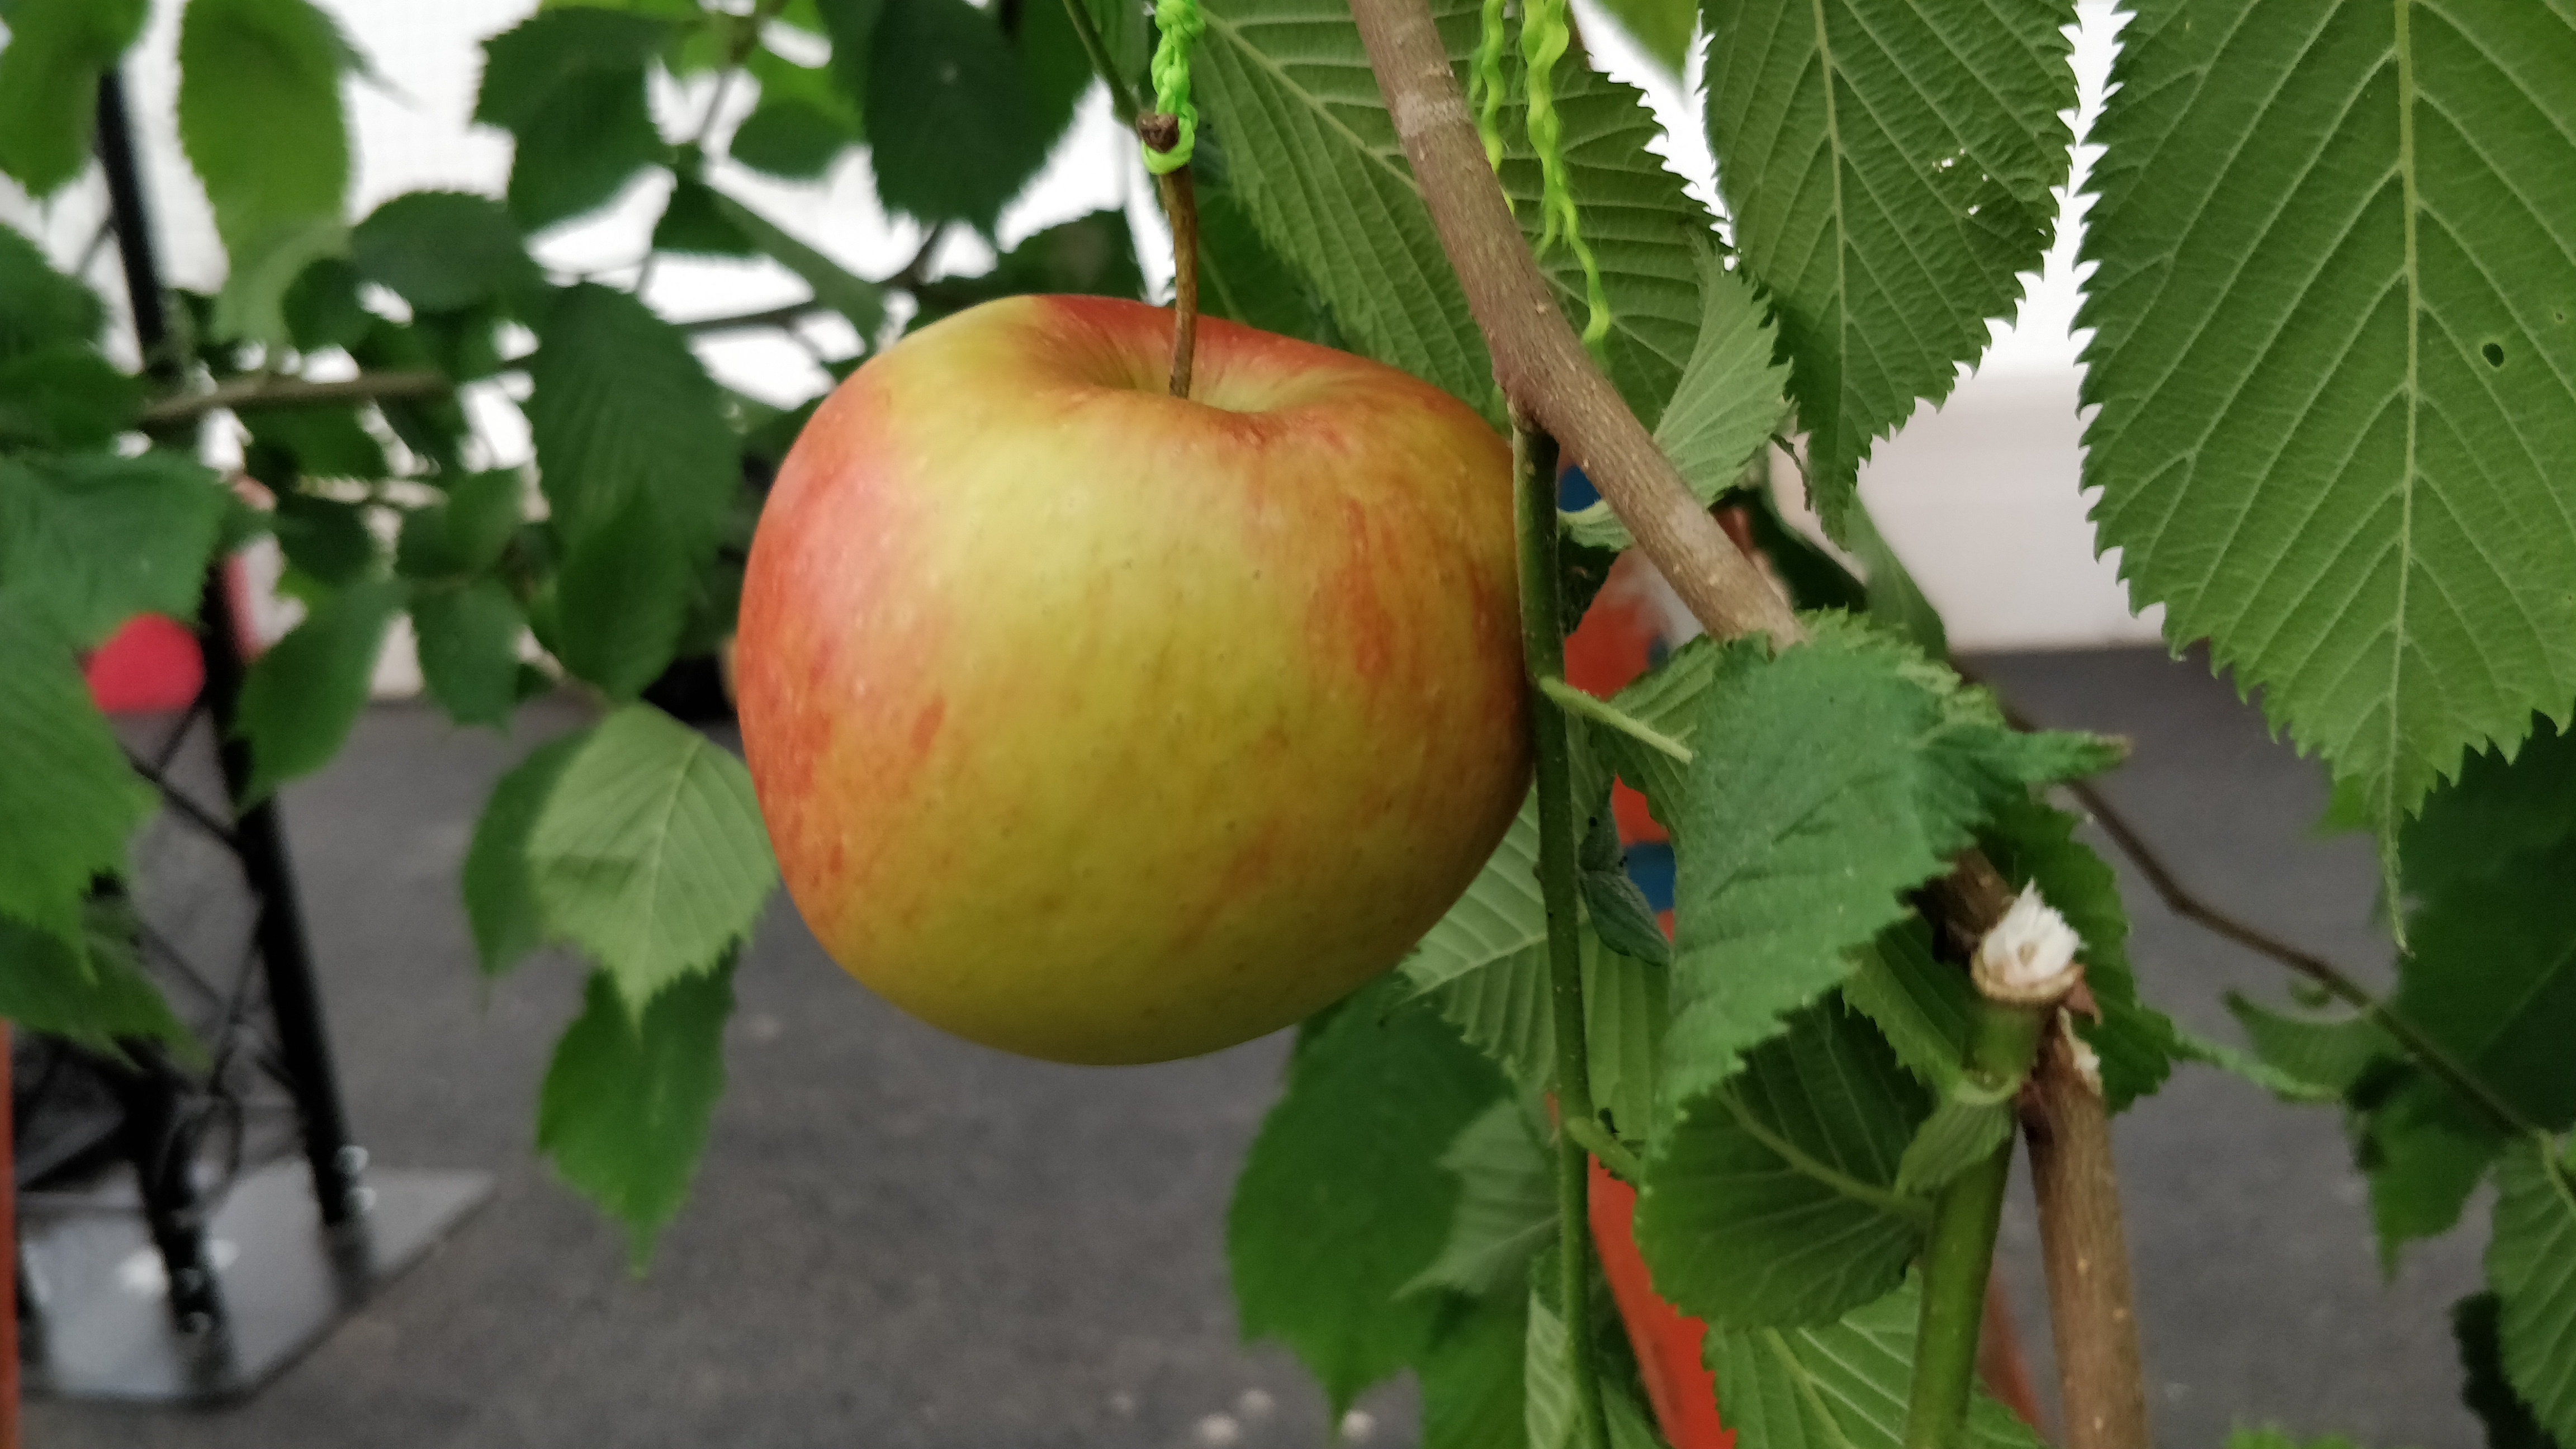apple: (736, 290, 1529, 1072)
